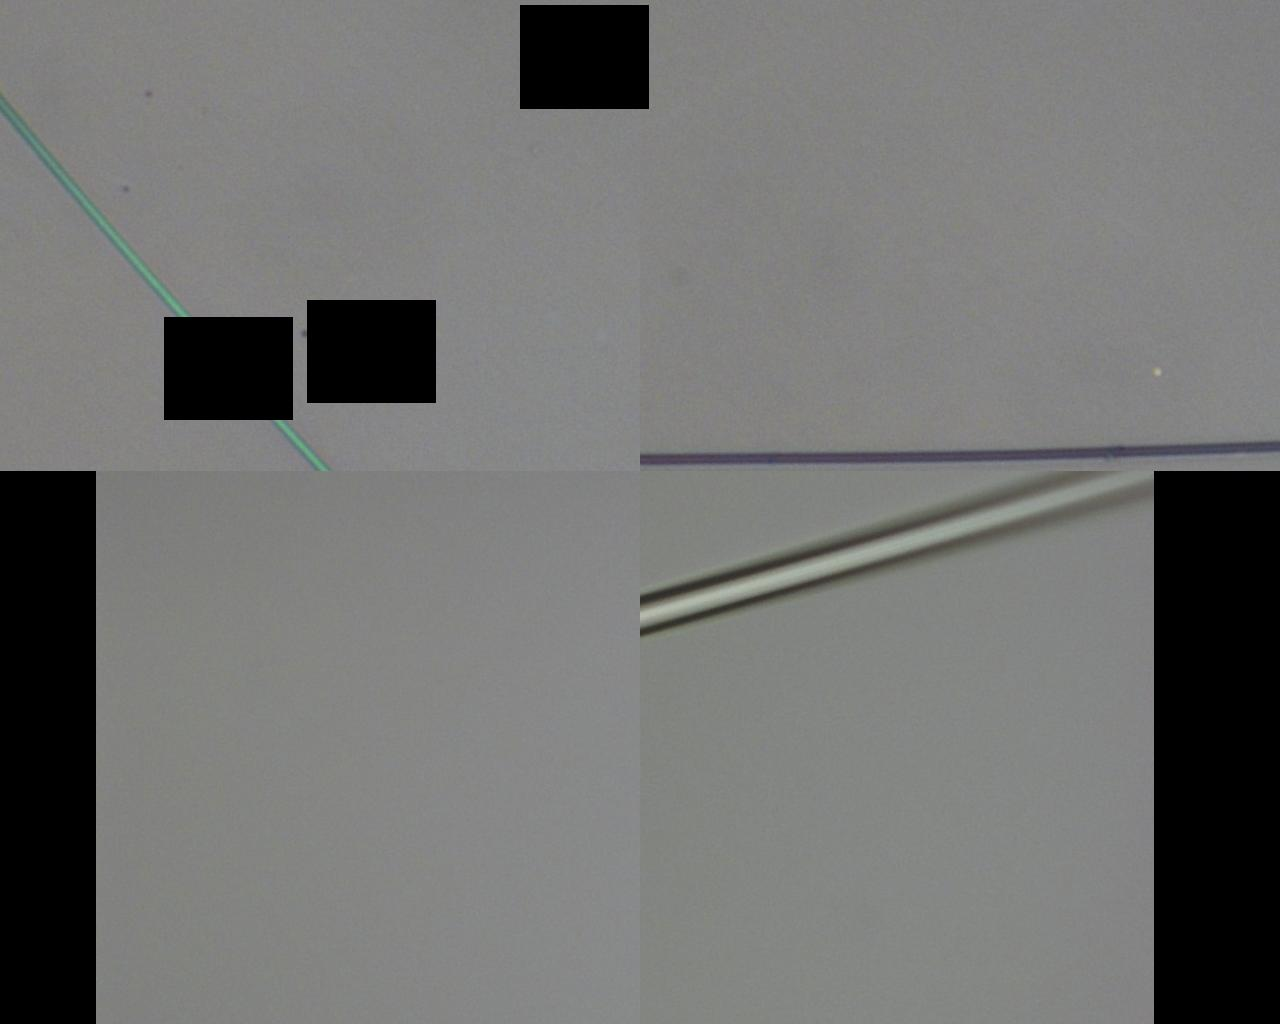fiber: (577, 532, 1280, 1024), (45, 0, 324, 532), (499, 308, 1280, 373)
